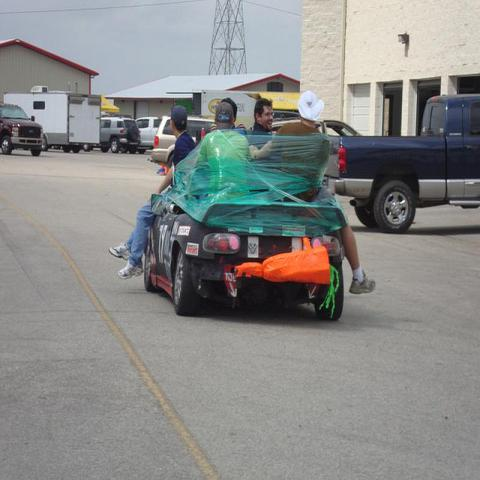car: (142, 195, 344, 319), (152, 116, 218, 169), (0, 101, 44, 154), (100, 113, 140, 154), (136, 115, 162, 150), (315, 121, 364, 137)
truck: (336, 92, 480, 236), (2, 86, 101, 156)
